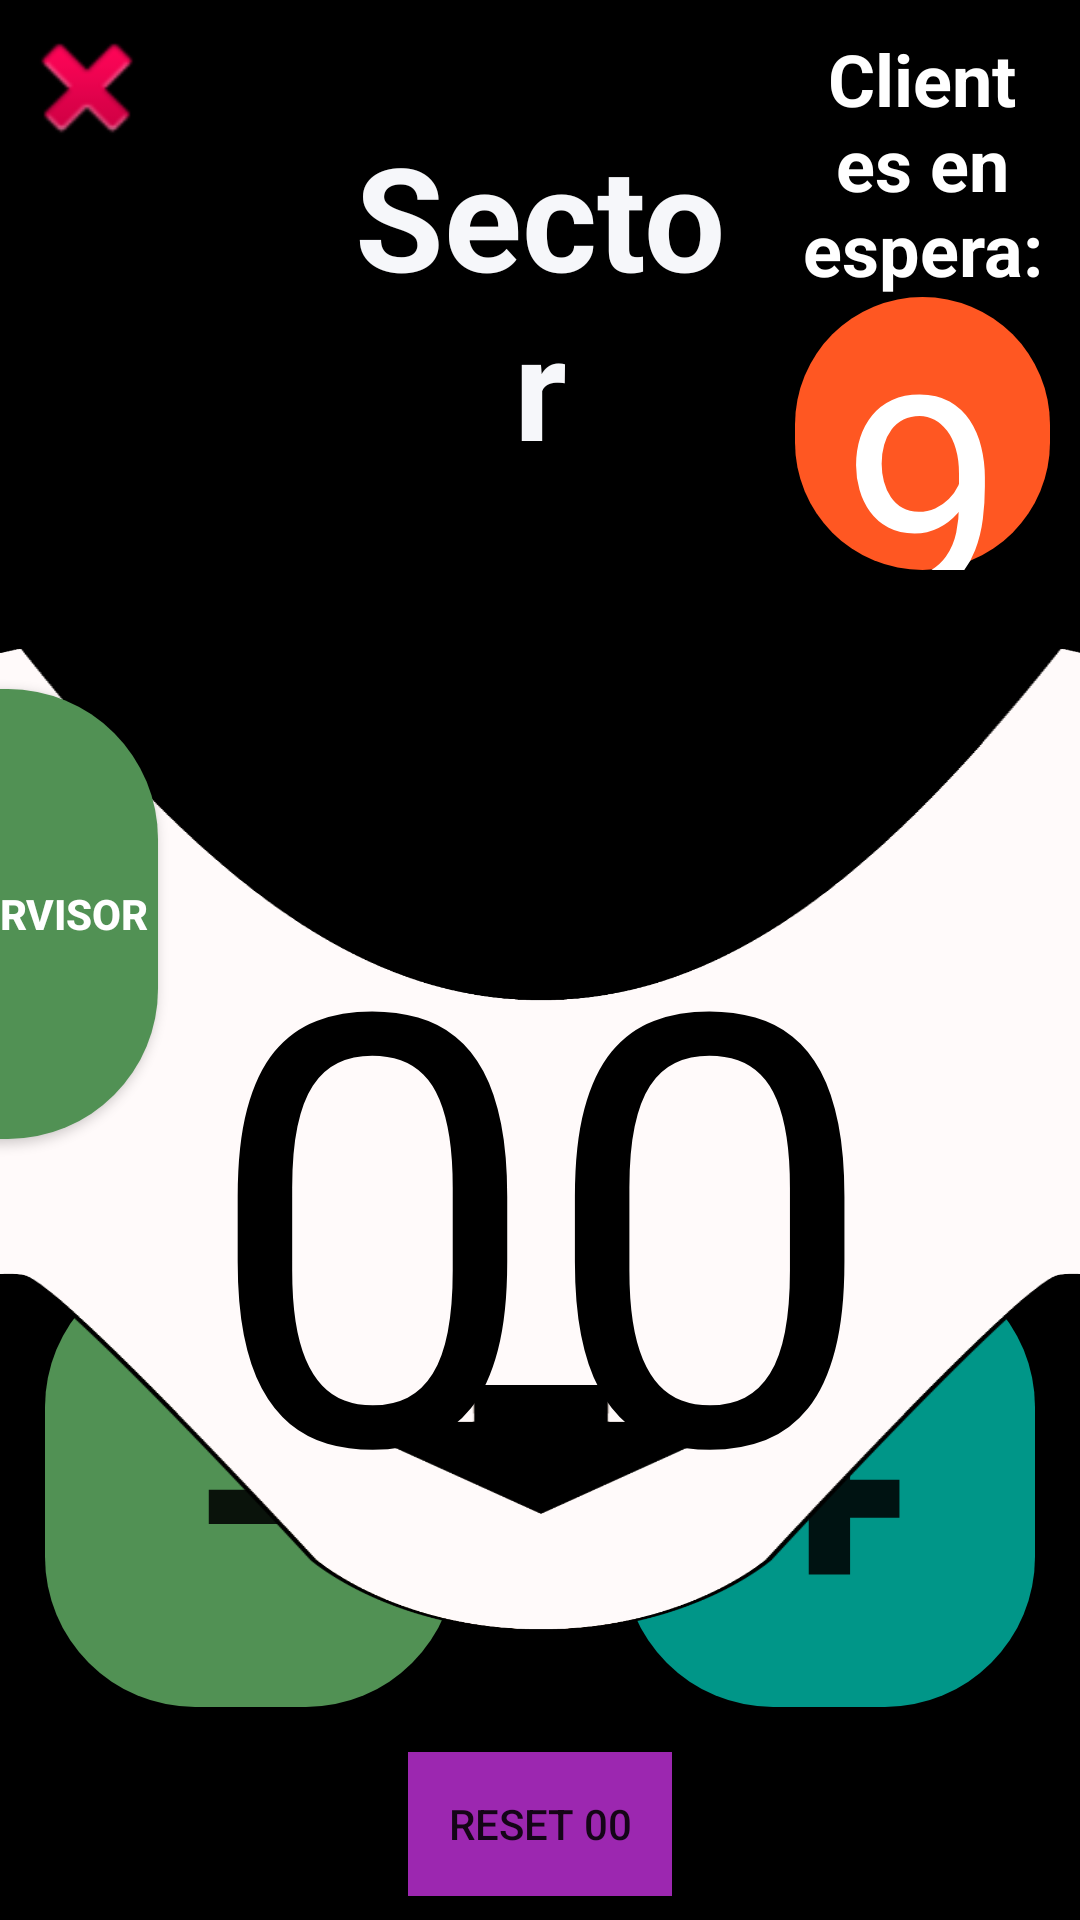

Icon bounding boxes for this 1080px x 1920px phone screenshot, format (x1, y1, x2, y2):
delete: (41, 43, 133, 133)
